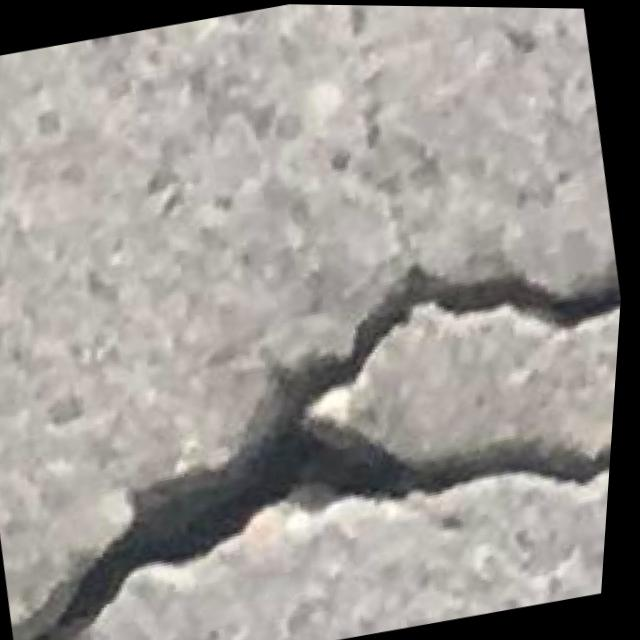Crack: (0, 219, 629, 640)
